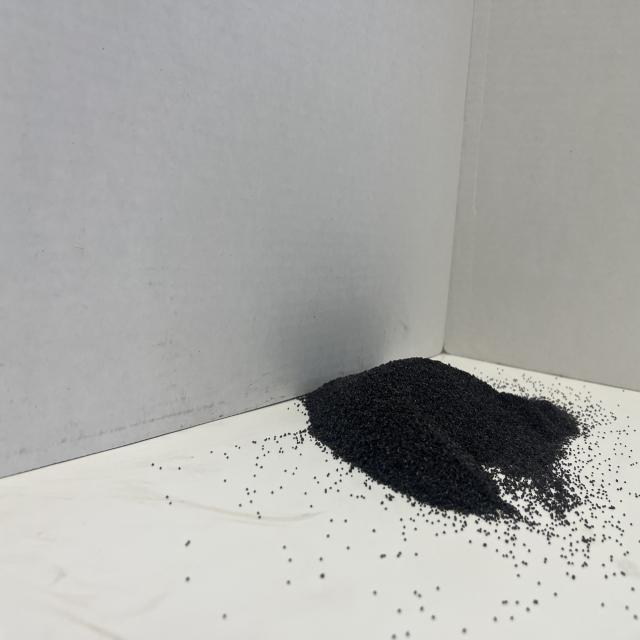Poppy Seeds: (304, 344, 591, 541)
